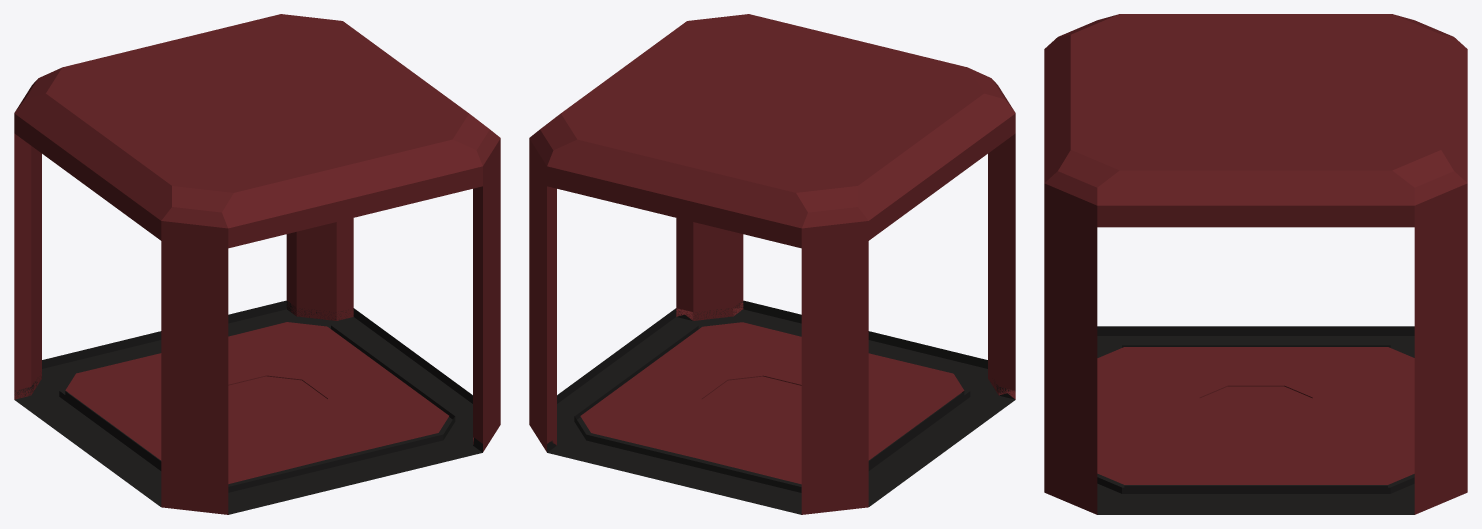
The model's file is 6x6_Frame.glb.
The picture shows the model from 3 angles, left to right: view 1: azimuth 30°, elevation 25°; view 2: azimuth 150°, elevation 25°; view 3: azimuth 270°, elevation 25°; orthographic projection. The views are drawn at different scales.
Visible parts, largest first — view 1: Room_Base_Frame_6x6, Middle_Floor, Floor_6x6, Room_Ceiling_6x6; view 2: Room_Base_Frame_6x6, Middle_Floor, Floor_6x6, Room_Ceiling_6x6; view 3: Room_Base_Frame_6x6, Middle_Floor, Floor_6x6, Room_Ceiling_6x6.
Boxes of the visible parts, x1,y1,x2,y2 form: Room_Base_Frame_6x6: [14, 14, 500, 514]; Middle_Floor: [65, 322, 448, 483]; Floor_6x6: [14, 300, 482, 514]; Room_Ceiling_6x6: [14, 125, 500, 248]; Room_Base_Frame_6x6: [529, 14, 1015, 514]; Middle_Floor: [580, 322, 964, 484]; Floor_6x6: [547, 300, 1015, 514]; Room_Ceiling_6x6: [529, 125, 1015, 248]; Room_Base_Frame_6x6: [1044, 14, 1467, 514]; Middle_Floor: [1097, 347, 1414, 484]; Floor_6x6: [1097, 326, 1414, 514]; Room_Ceiling_6x6: [1044, 195, 1467, 227].
Size of the model in its own units: 8 by 6.95 by 8.
